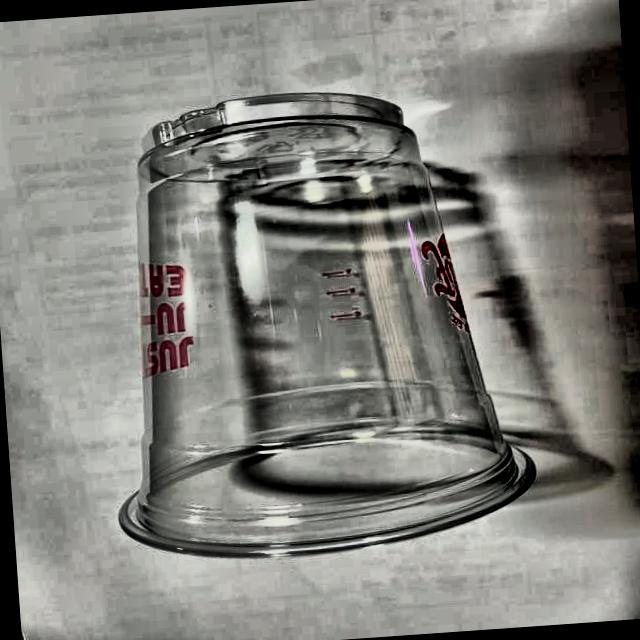plastic cup: (84, 71, 550, 572)
